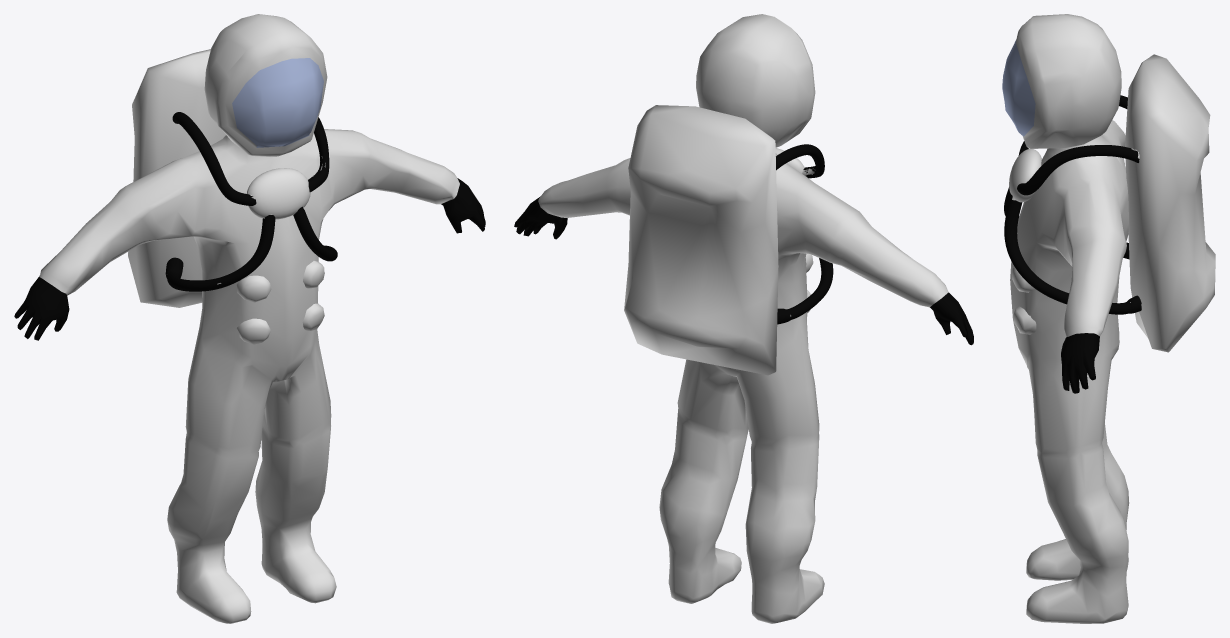
File: helmet.gltf
3 renders of one model, left to right at view 1: azimuth 30°, elevation 25°; view 2: azimuth 150°, elevation 25°; view 3: azimuth 270°, elevation 25°, orthographic. The views are drawn at different scales.
Parts seen in each view (by area): view 1: Astronaut_mesh_1_2; view 2: Astronaut_mesh_1_2; view 3: Astronaut_mesh_1_2.
Part boxes in pixels (x1,y1,x2,y2): Astronaut_mesh_1_2: [14, 14, 485, 623]; Astronaut_mesh_1_2: [514, 14, 973, 623]; Astronaut_mesh_1_2: [1002, 14, 1215, 623].
Size of the model in its own units: 3.54 by 4.22 by 1.42.
